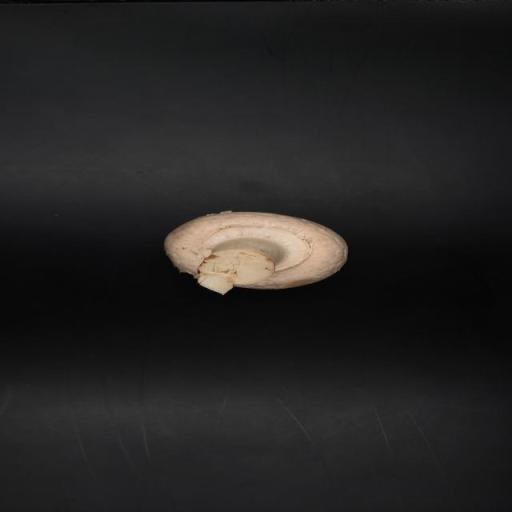Button Mushroom: (161, 200, 352, 302)
